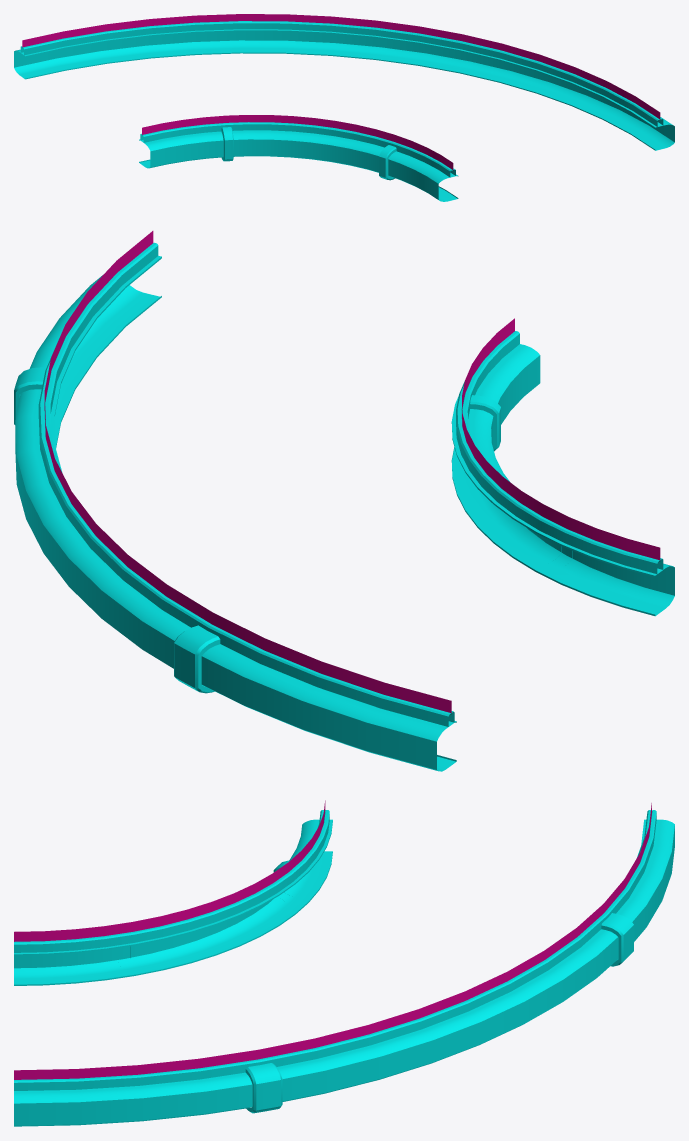
The model's file is Mur_V_90x2.fbx.
3 views of the same model, one above another, from view 1: azimuth 30°, elevation 25°; view 2: azimuth 150°, elevation 25°; view 3: azimuth 270°, elevation 25° (orthographic). The views are drawn at different scales.
Visible parts, largest first — view 1: polySurface1066; view 2: polySurface1066; view 3: polySurface1066.
Part boxes in pixels (x1=…): polySurface1066: x1=14, y1=14, x2=674, y2=201; polySurface1066: x1=14, y1=231, x2=674, y2=771; polySurface1066: x1=14, y1=800, x2=674, y2=1126.
Bounding box in the file's own units: 26.6 × 2.5 × 26.6.
